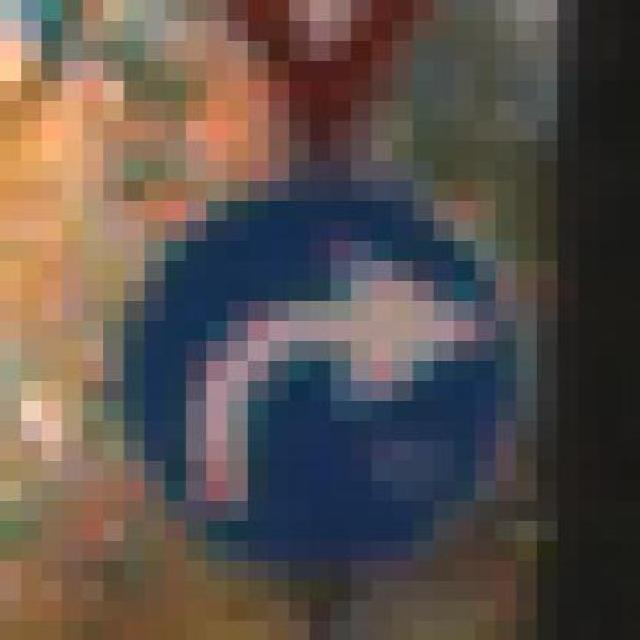Turn right ahead: (103, 160, 557, 600)
